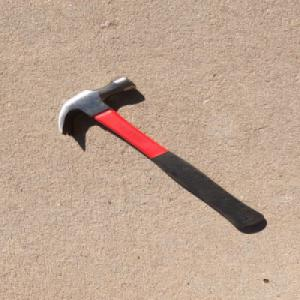Hammer: (56, 74, 266, 231)
